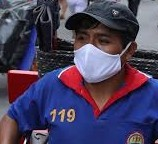with_mask: (70, 20, 128, 83)
